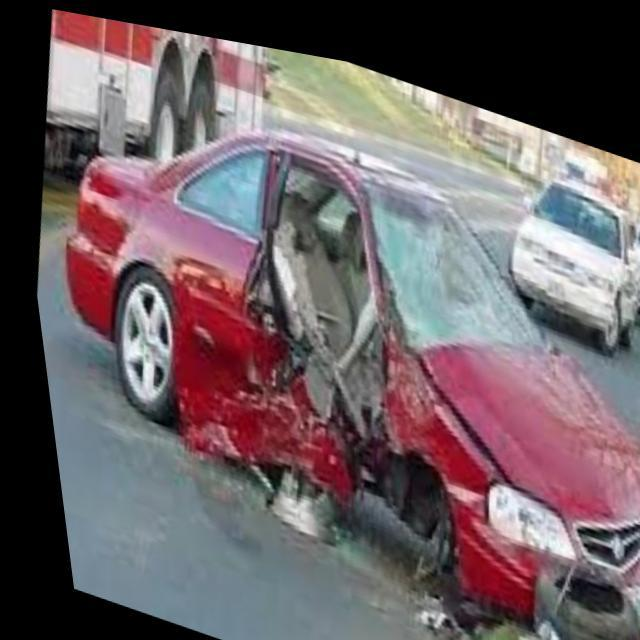crash: (165, 132, 492, 598)
